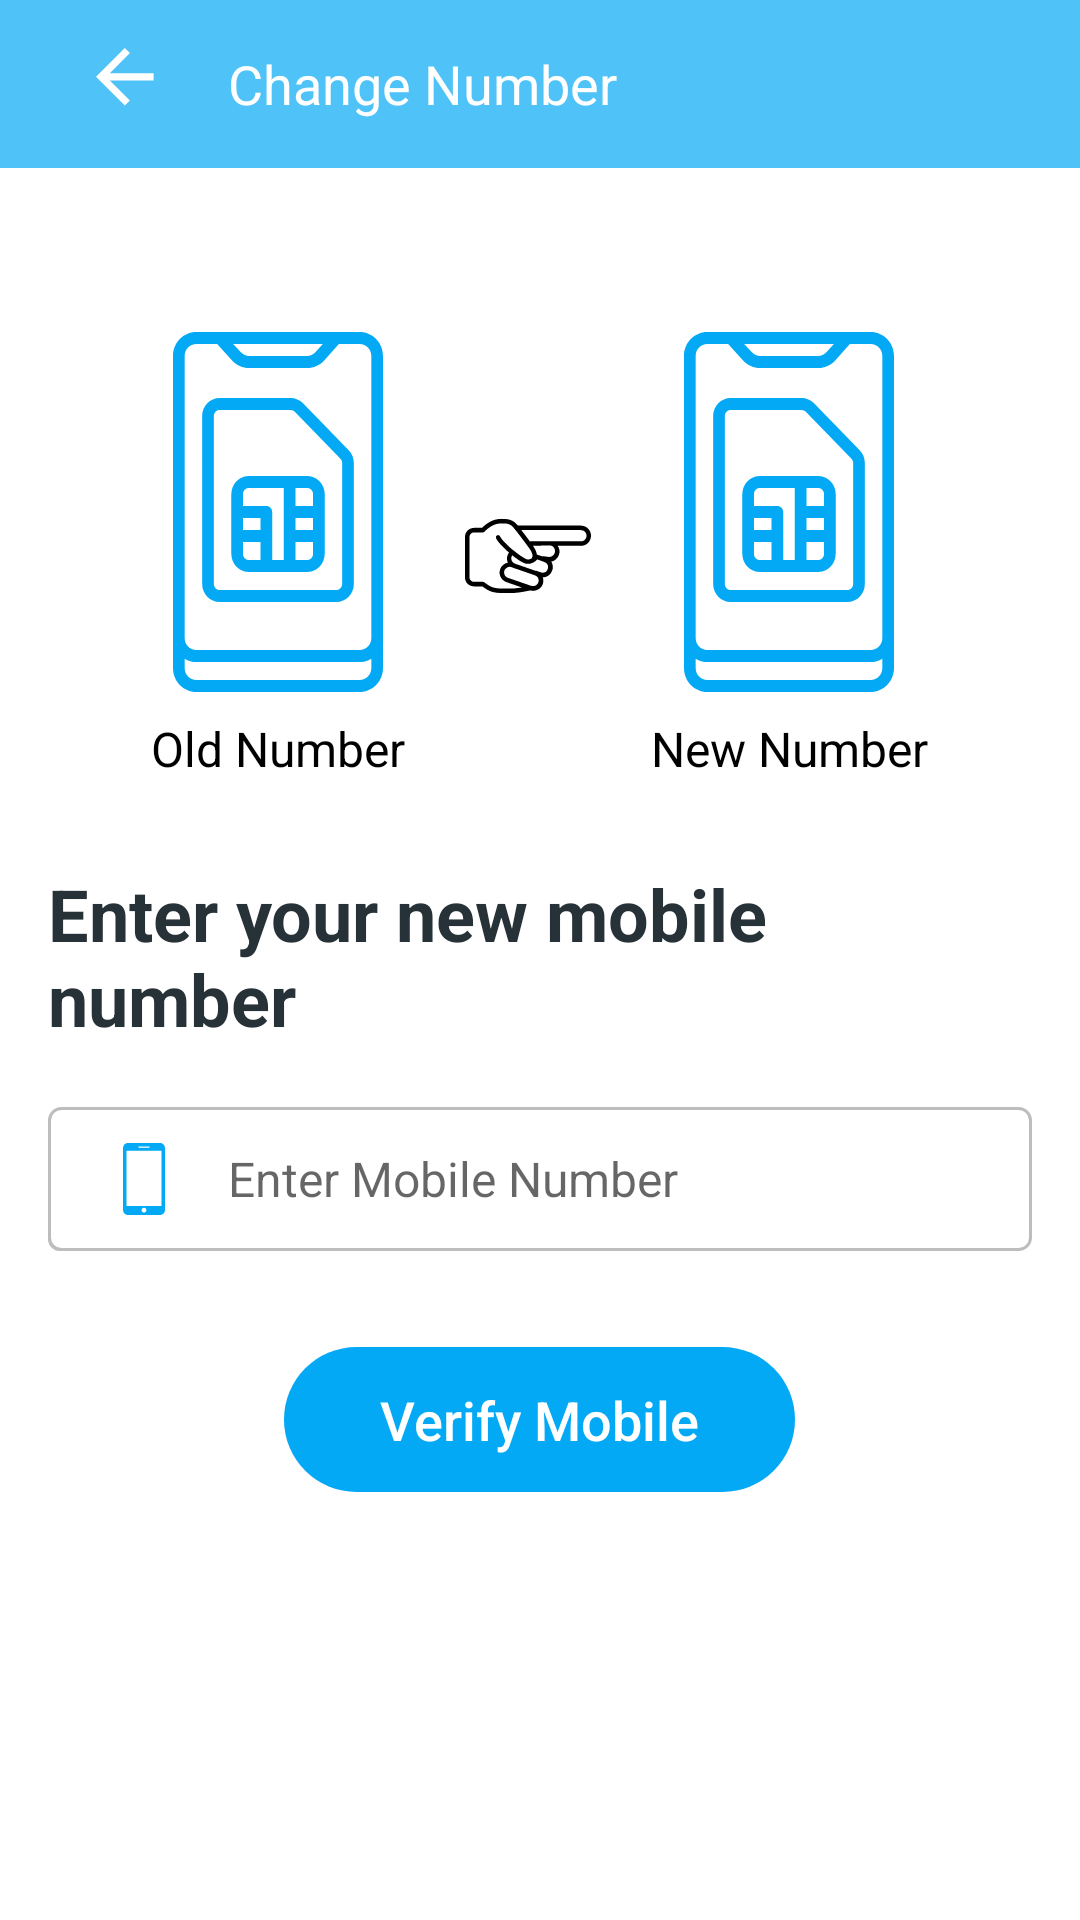

Icon bounding boxes for this 1080px×1920px phone screenshot, format (x1, y1, x2, y2):
arrow back: (96, 48, 154, 106)
pointing right: (465, 518, 591, 593)
sim card: (173, 332, 383, 692), (684, 332, 894, 692)
